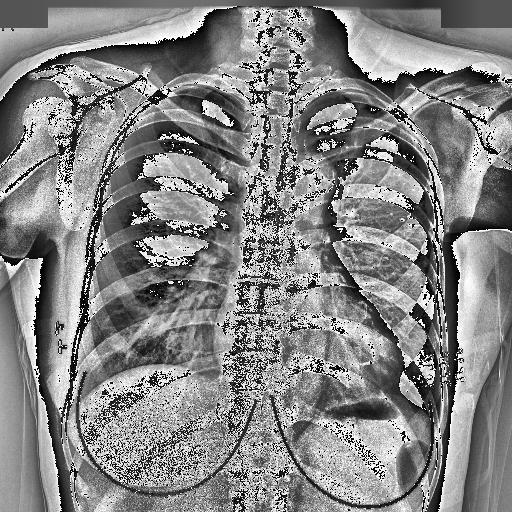0- Aortic enlargement: (280, 149, 337, 223), (284, 152, 336, 205), (286, 152, 334, 200)
13- Pulmonary fibrosis: (391, 200, 424, 232), (399, 202, 424, 228)
2- Calcification: (398, 199, 424, 228), (421, 258, 430, 268)
3- Cardiomegaly: (211, 308, 404, 394)
